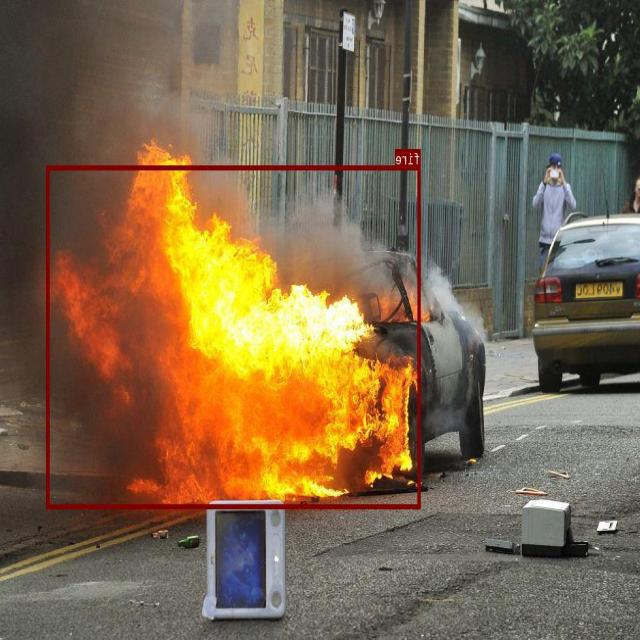fire: (47, 165, 421, 508)
